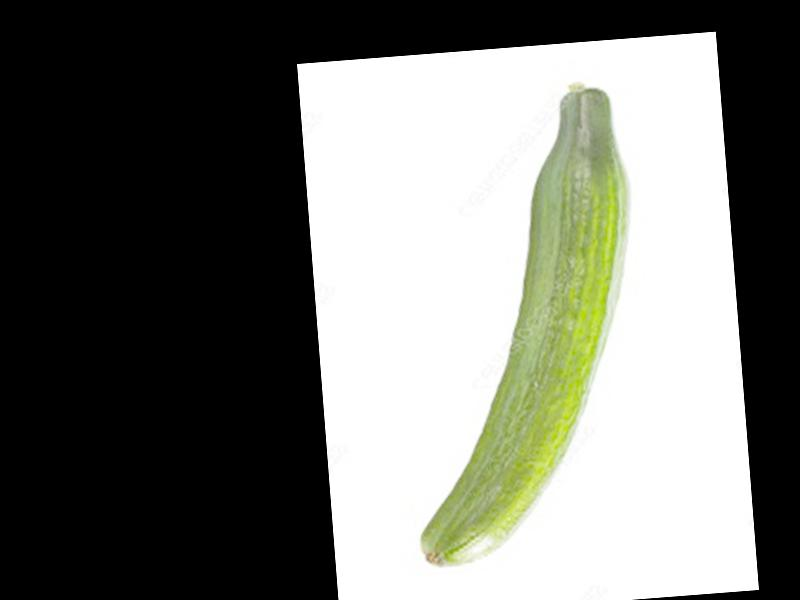Cucumber: (384, 78, 657, 568)
